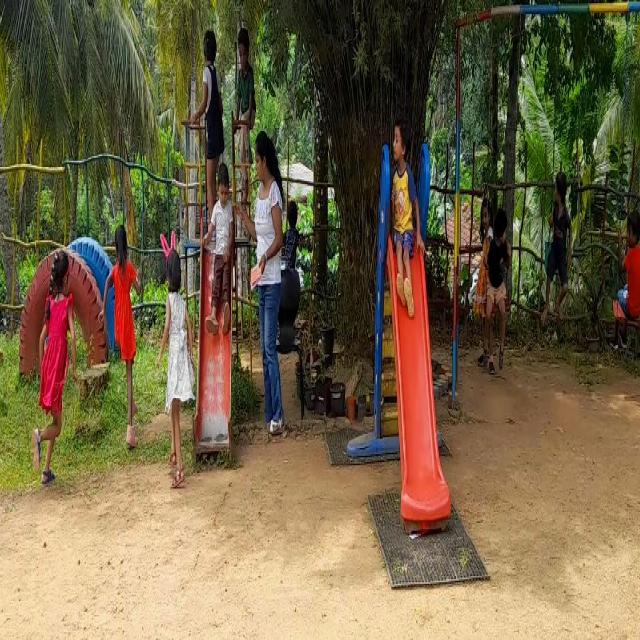adult: (248, 136, 292, 428)
child: (36, 228, 75, 470), (155, 207, 186, 480), (105, 216, 134, 451), (388, 111, 418, 318), (541, 157, 573, 332), (480, 190, 509, 358), (207, 162, 231, 328), (231, 23, 254, 186), (613, 209, 640, 337)
